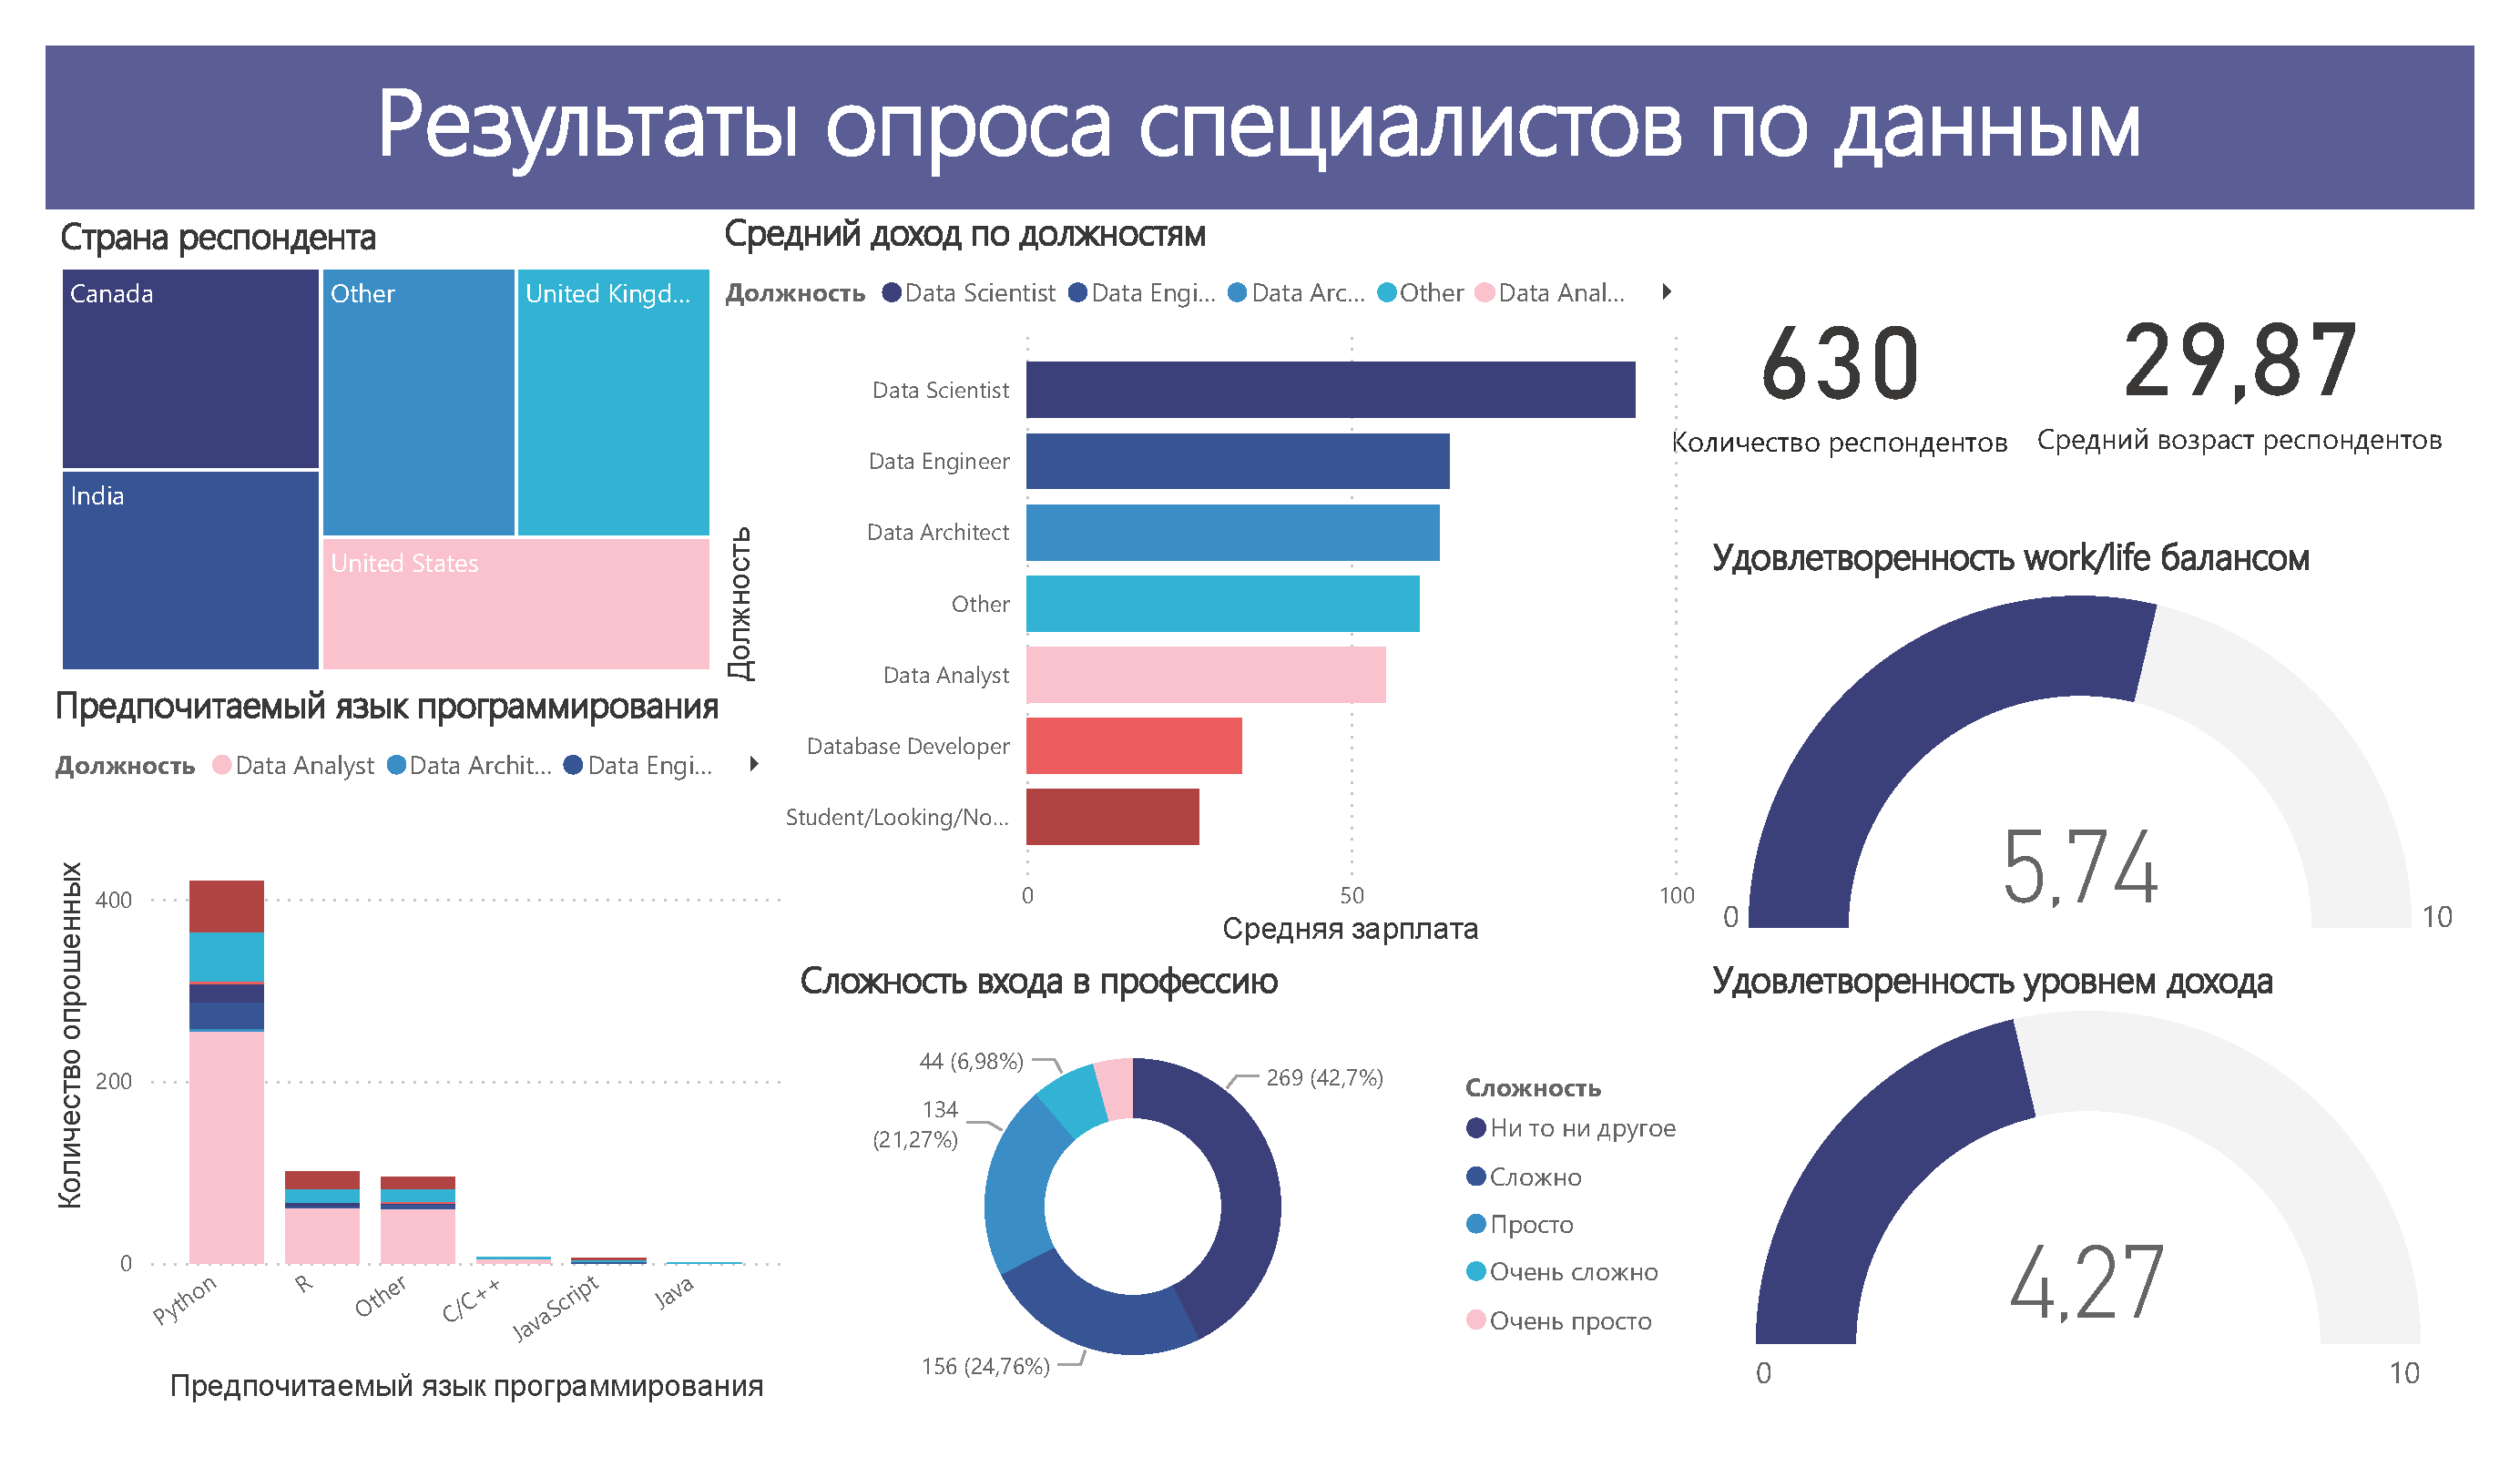

The page's visual inventory and layout, read from the dashboard file:
{"tool":"powerbi","page":{"name":"Страница 1","canvas":[1280,720],"ordinal":0},"visuals":[{"type":"textbox","box":[0,0,1280,85.7],"z":0},{"type":"card","fields":{"Values":["CountNonNull(Data Professional Survey.Unique ID)"]},"box":[873.6,85.9,195.9,164.9],"z":1000},{"type":"card","fields":{"Values":["Avg(Data Professional Survey.Q10 - Current Age)"]},"box":[1069.4,85.9,209.9,164.9],"z":2000},{"type":"barChart","title":"Средний доход по должностям","fields":{"Category":["Data Professional Survey.Q1 - Which Title Best Fits your Current Role?.1"],"Y":["Avg(Data Professional Survey.Average Salary)"],"Series":["Data Professional Survey.Q1 - Which Title Best Fits your Current Role?.1"]},"box":[352.3,85.9,521.3,393.1],"z":3000},{"type":"columnChart","title":"Предпочитаемый язык программирования","fields":{"Category":["Data Professional Survey.Q5 - Favorite Programming Language.1"],"Y":["CountNonNull(Data Professional Survey.Unique ID)"],"Series":["Data Professional Survey.Q1 - Which Title Best Fits your Current Role?.1"]},"box":[0,333.9,393.1,386.1],"z":4000},{"type":"treemap","title":"Страна респондента","fields":{"Group":["Data Professional Survey.Q11 - Which Country do you live in?.1"],"Values":["Count(Data Professional Survey.Q11 - Which Country do you live in?.1)"]},"box":[0,85.9,352.3,248],"z":5000},{"type":"gauge","title":"Удовлетворенность work/life балансом","fields":{"Y":["Avg(Data Professional Survey.Q6 - How Happy are you in your Current Position with the following? (Work/Life Balance))"],"MinValue":["Min(Data Professional Survey.Q6 - How Happy are you in your Current Position with the following? (Work/Life Balance))1"],"MaxValue":["Max(Data Professional Survey.Q6 - How Happy are you in your Current Position with the following? (Work/Life Balance))2"]},"box":[873.6,256.4,405.8,222.6],"z":6000},{"type":"gauge","title":"Удовлетворенность уровнем дохода","fields":{"Y":["Avg(Data Professional Survey.Q6 - How Happy are you in your Current Position with the following? (Salary))"],"MinValue":["Min(Data Professional Survey.Q6 - How Happy are you in your Current Position with the following? (Salary))1"],"MaxValue":["Max(Data Professional Survey.Q6 - How Happy are you in your Current Position with the following? (Salary))2"]},"box":[873.6,479.1,405.8,240.9],"z":7000},{"type":"donutChart","title":"Сложность входа в профессию","fields":{"Category":["Data Professional Survey.Копия Q7 - How difficult was it for you to break into Data?"],"Y":["CountNonNull(Data Professional Survey.Копия Q7 - How difficult was it for you to break into Data?)"]},"box":[393.1,479.1,480.5,240.9],"z":8000}]}

Visuals, with their boxes in screenshot pixels (x1, y1, x2, y2):
textbox: box(46, 46, 2474, 209)
card - CountNonNull(Data Professional Survey.Unique ID): box(1703, 209, 2075, 522)
card - Avg(Data Professional Survey.Q10 - Current Age): box(2075, 209, 2474, 522)
"Средний доход по должностям" barChart: box(714, 209, 1703, 954)
"Предпочитаемый язык программирования" columnChart: box(46, 679, 791, 1411)
"Страна респондента" treemap: box(46, 209, 714, 679)
"Удовлетворенность work/life балансом" gauge: box(1703, 532, 2474, 954)
"Удовлетворенность уровнем дохода" gauge: box(1703, 954, 2474, 1411)
"Сложность входа в профессию" donutChart: box(791, 954, 1703, 1411)
